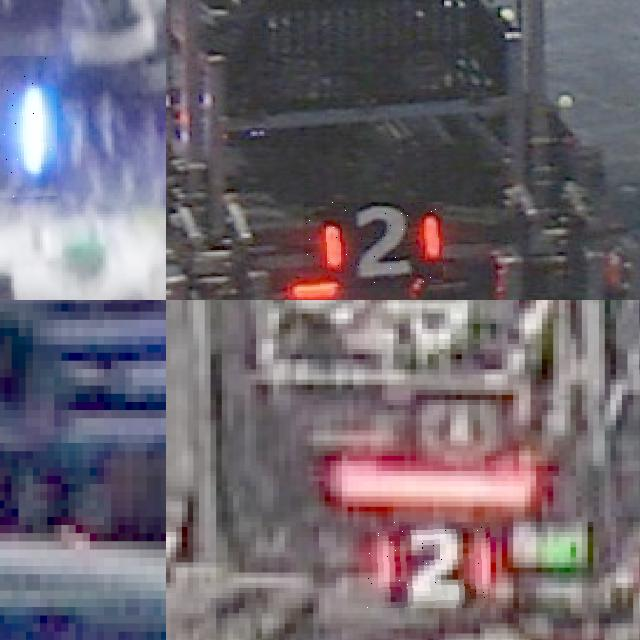B3: (0, 55, 57, 205)
R2: (303, 202, 443, 288), (365, 522, 490, 608)
